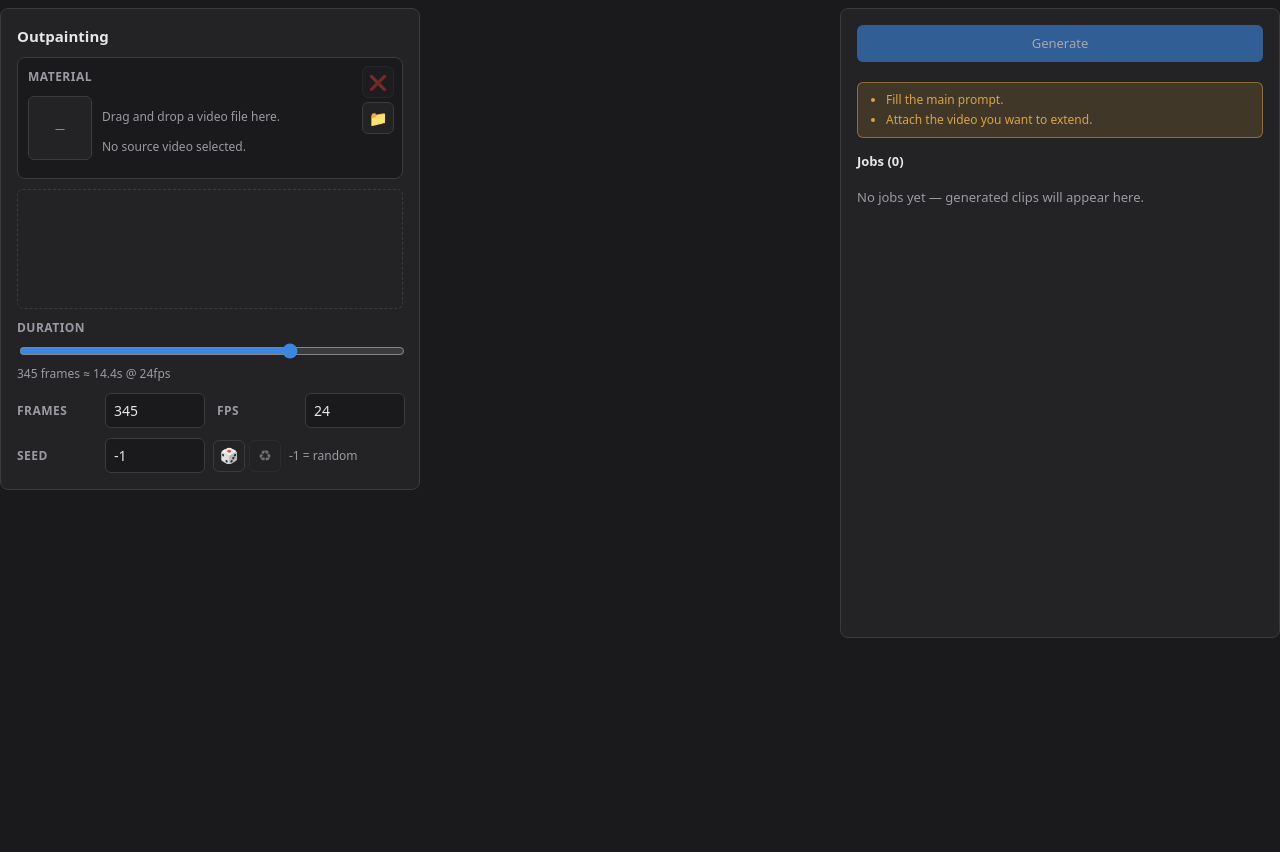
it: OutpaintingPanel › rounds and clamps the frame-rate box to a whole [1, 60] value
Click the button named "choose source video" at (378, 118), box top-left (362, 102), bottom-right (394, 134)
(page scrolled)
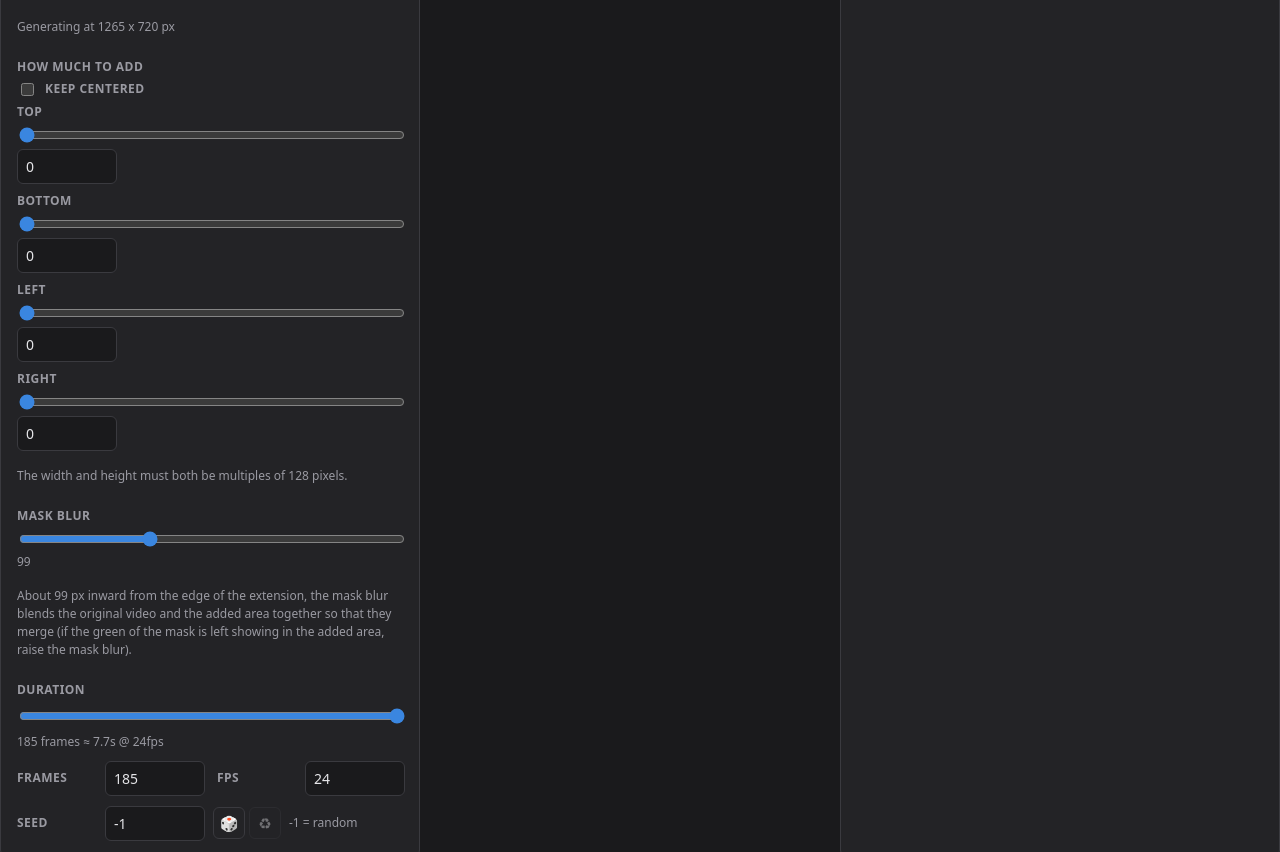
Now the slider labelled "Left" is shown, box top-left (19, 305), bottom-right (405, 321)
Replace the text in the number field labelled "FPS" with "29.97" at (355, 778), box top-left (305, 761), bottom-right (405, 796)
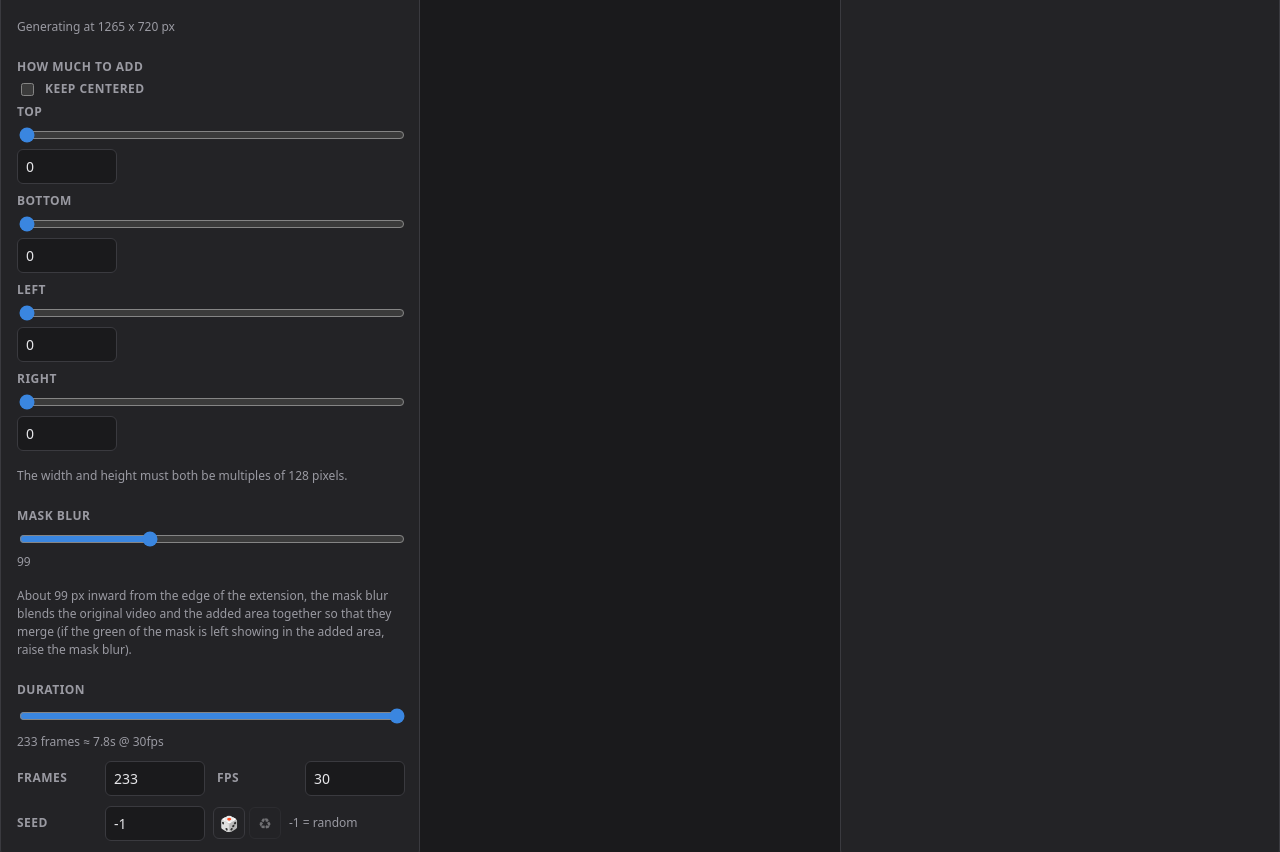
Now the number field labelled "FPS" holds "30"
Replace the text in the number field labelled "FPS" with "200" at (355, 778), box top-left (305, 761), bottom-right (405, 796)
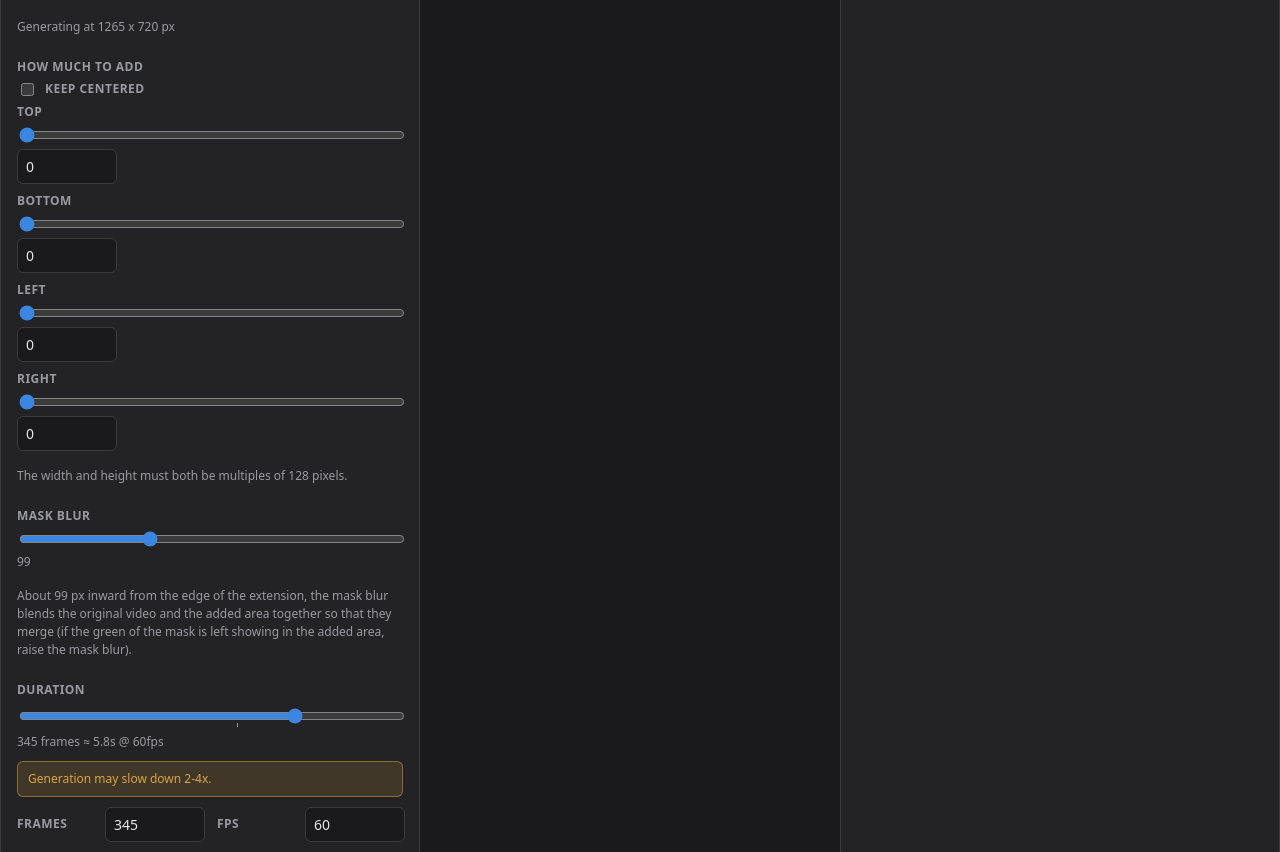
Now the number field labelled "FPS" holds "60"
Clear the number field labelled "FPS" at (355, 824), box top-left (305, 807), bottom-right (405, 842)
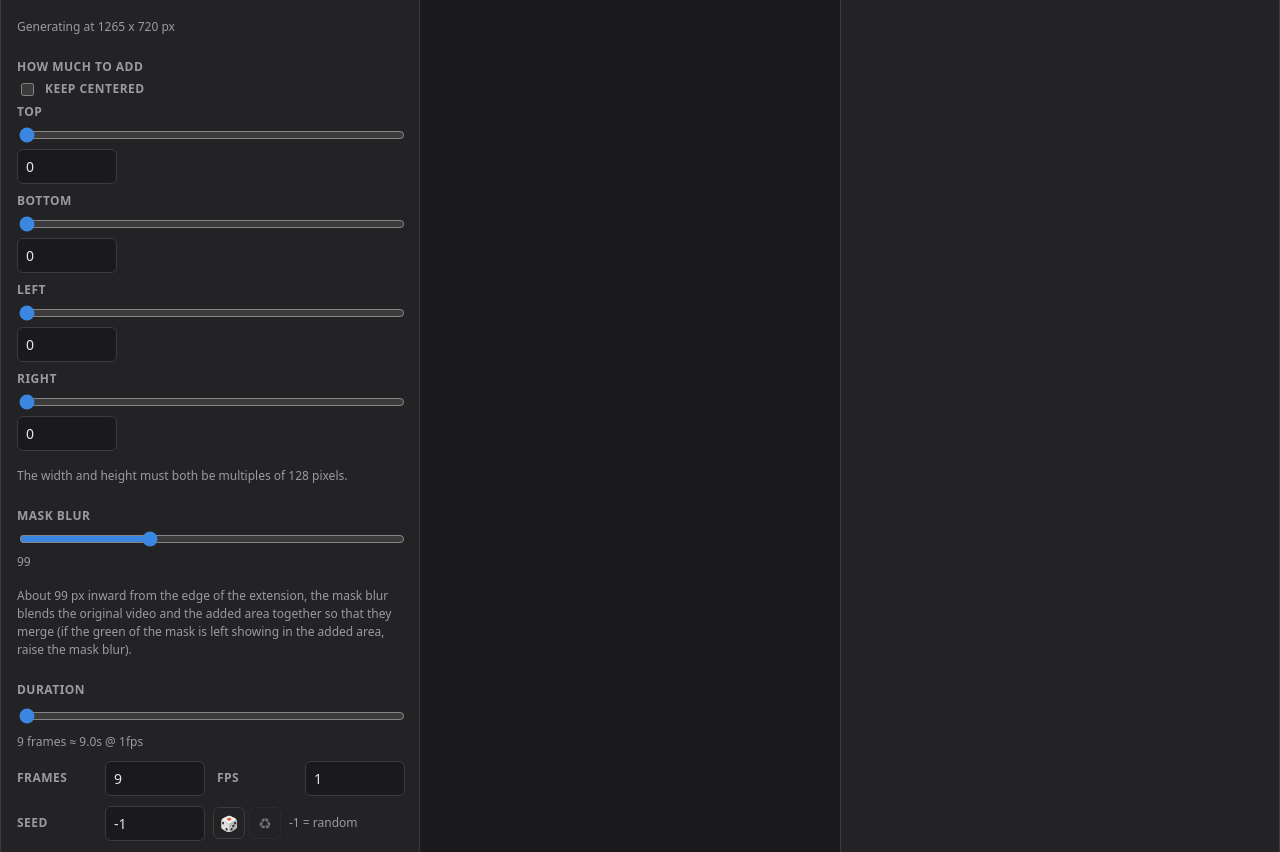
Now the number field labelled "FPS" holds "1", box top-left (305, 761), bottom-right (405, 796)
